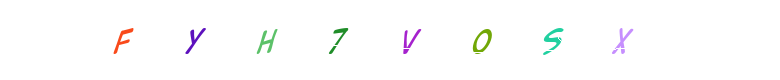7: (308, 0, 388, 80)
F: (82, 0, 162, 80)
H: (263, 0, 343, 80)
O: (388, 0, 468, 80)
S: (469, 0, 549, 80)
V: (350, 0, 430, 80)
X: (513, 0, 593, 80)
Y: (255, 0, 335, 80)
